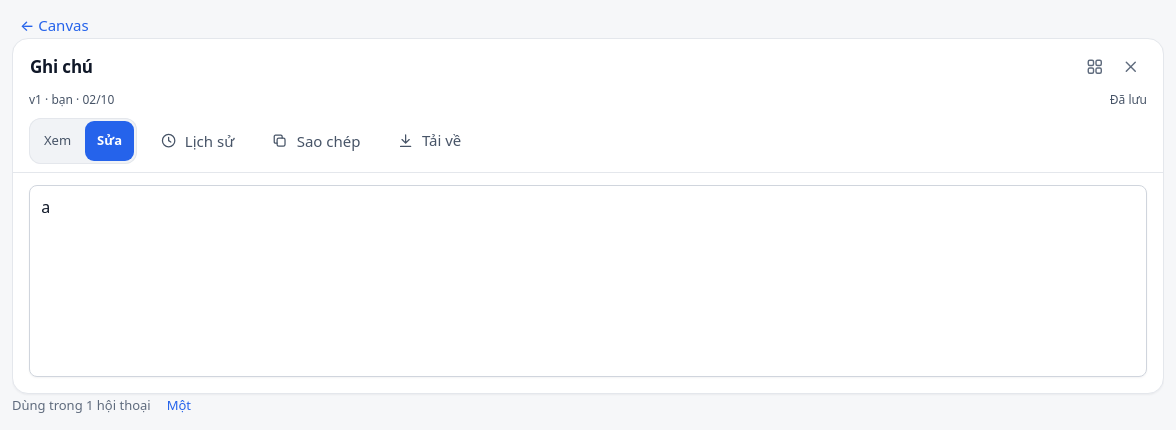
a canvas on a page of its own › goes back to the library at once with words unsaved, and their save goes on behind
This screenshot has width=1176, height=430.
Replace the text in the text box named "Nội dung canvas" with "ab" at (588, 281), box [29, 185, 1147, 377]
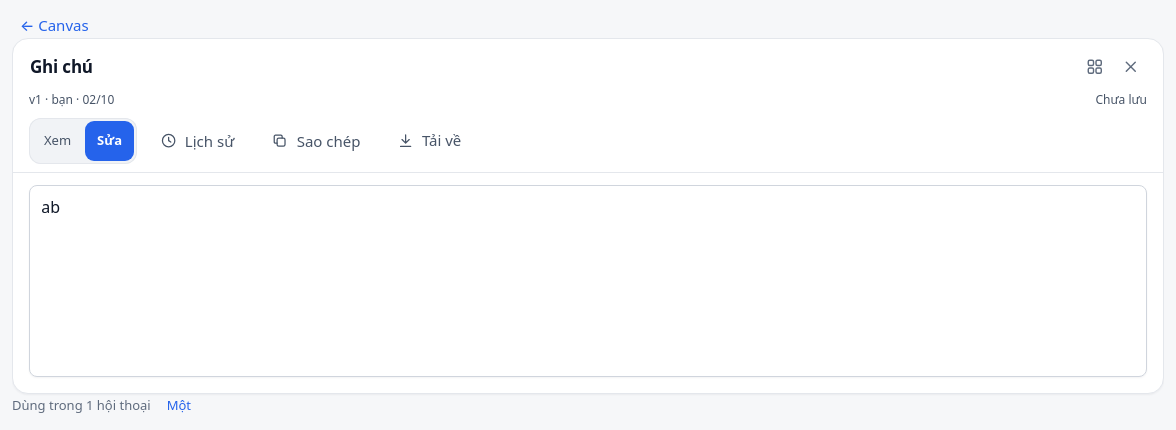
Click the button "← Canvas" at (54, 25), box [12, 12, 97, 38]
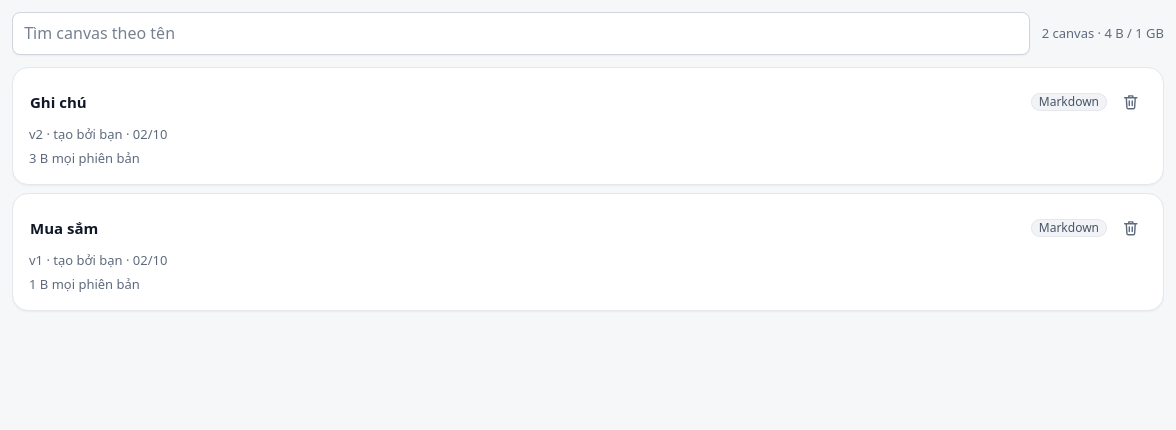
Expected: the element with class "canvas-panel" is gone
Expected: the element with test id "canvas-library" is shown
Expected: the message "Chưa lưu" is gone
